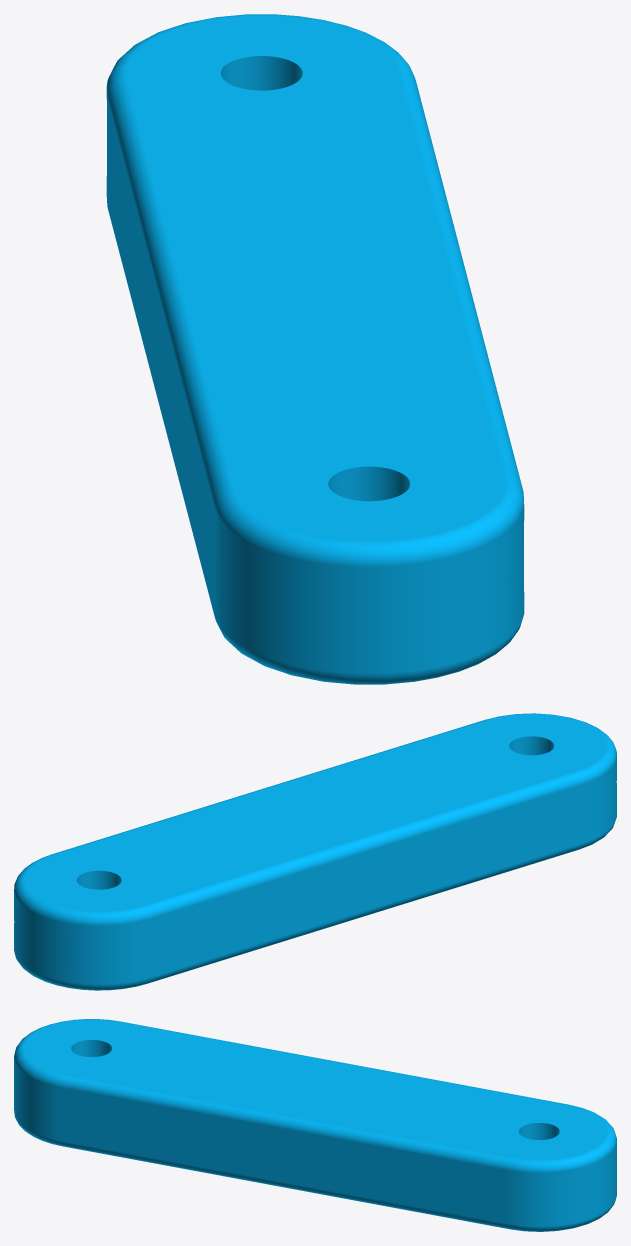
The model's file is pads-arm.fbx.
3 views of the same model, one above another, from view 1: azimuth 30°, elevation 25°; view 2: azimuth 150°, elevation 25°; view 3: azimuth 270°, elevation 25° (orthographic). The views are drawn at different scales.
Visible parts, largest first — view 1: pads-arm; view 2: pads-arm; view 3: pads-arm.
Boxes of the visible parts, bbox=[...] form: pads-arm: bbox=[106, 14, 524, 684]; pads-arm: bbox=[14, 713, 616, 990]; pads-arm: bbox=[14, 1019, 616, 1231].
Size of the model in its own units: 35.98 by 8 by 61.68.
